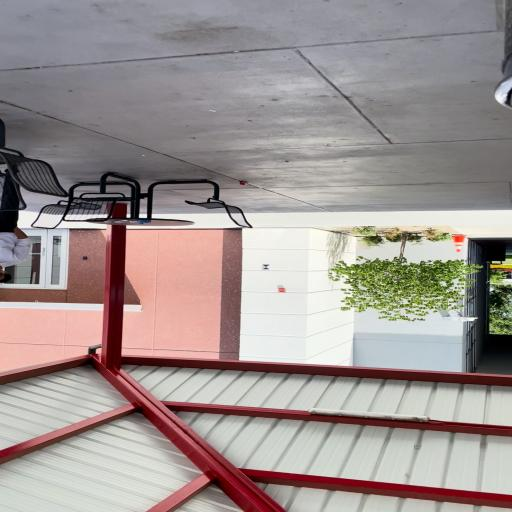target2: (261, 264, 271, 270)
